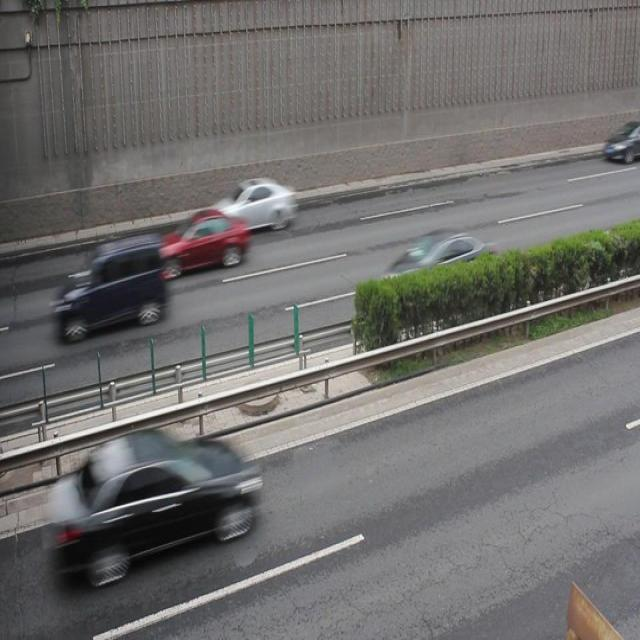car: (49, 426, 260, 581), (387, 230, 490, 306), (158, 208, 250, 281), (212, 177, 299, 235), (600, 119, 640, 161)
truck: (53, 230, 168, 335)
